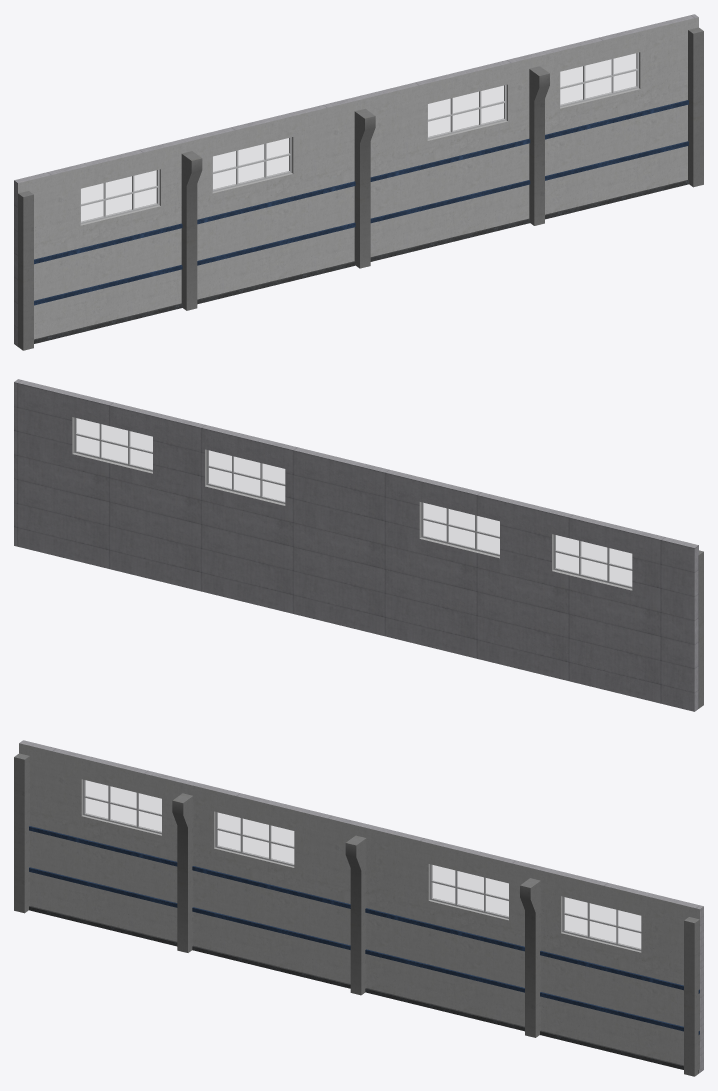
The model's file is WareMedium_Walls_Wind.FBX.
3 views of the same model, one above another, from view 1: azimuth 30°, elevation 25°; view 2: azimuth 150°, elevation 25°; view 3: azimuth 330°, elevation 25° (orthographic).
Visible parts, largest first — view 1: WareMedium_Walls_Wind, WareBig_Column, WareBig_Windglass, WareBig_W, WareBig_Wind; view 2: WareMedium_Walls_Wind, WareBig_Windglass, WareBig_Wind, WareBig_Column; view 3: WareMedium_Walls_Wind, WareBig_Column, WareBig_Windglass, WareBig_W, WareBig_Wind.
Part boxes in pixels (left/top/right/bottom): WareMedium_Walls_Wind: left=14, top=14, right=698, bottom=346; WareBig_Column: left=18, top=27, right=703, bottom=350; WareBig_Windglass: left=81, top=54, right=636, bottom=221; WareBig_W: left=34, top=100, right=688, bottom=305; WareBig_Wind: left=80, top=52, right=638, bottom=224; WareMedium_Walls_Wind: left=14, top=379, right=698, bottom=711; WareBig_Windglass: left=76, top=418, right=631, bottom=585; WareBig_Wind: left=74, top=417, right=632, bottom=588; WareBig_Column: left=698, top=550, right=703, bottom=708; WareMedium_Walls_Wind: left=19, top=740, right=703, bottom=1073; WareBig_Column: left=14, top=753, right=699, bottom=1076; WareBig_Windglass: left=85, top=781, right=640, bottom=948; WareBig_W: left=29, top=826, right=699, bottom=1034; WareBig_Wind: left=83, top=779, right=641, bottom=950.
Size of the model in its own units: 1499 by 345 by 54.34.
